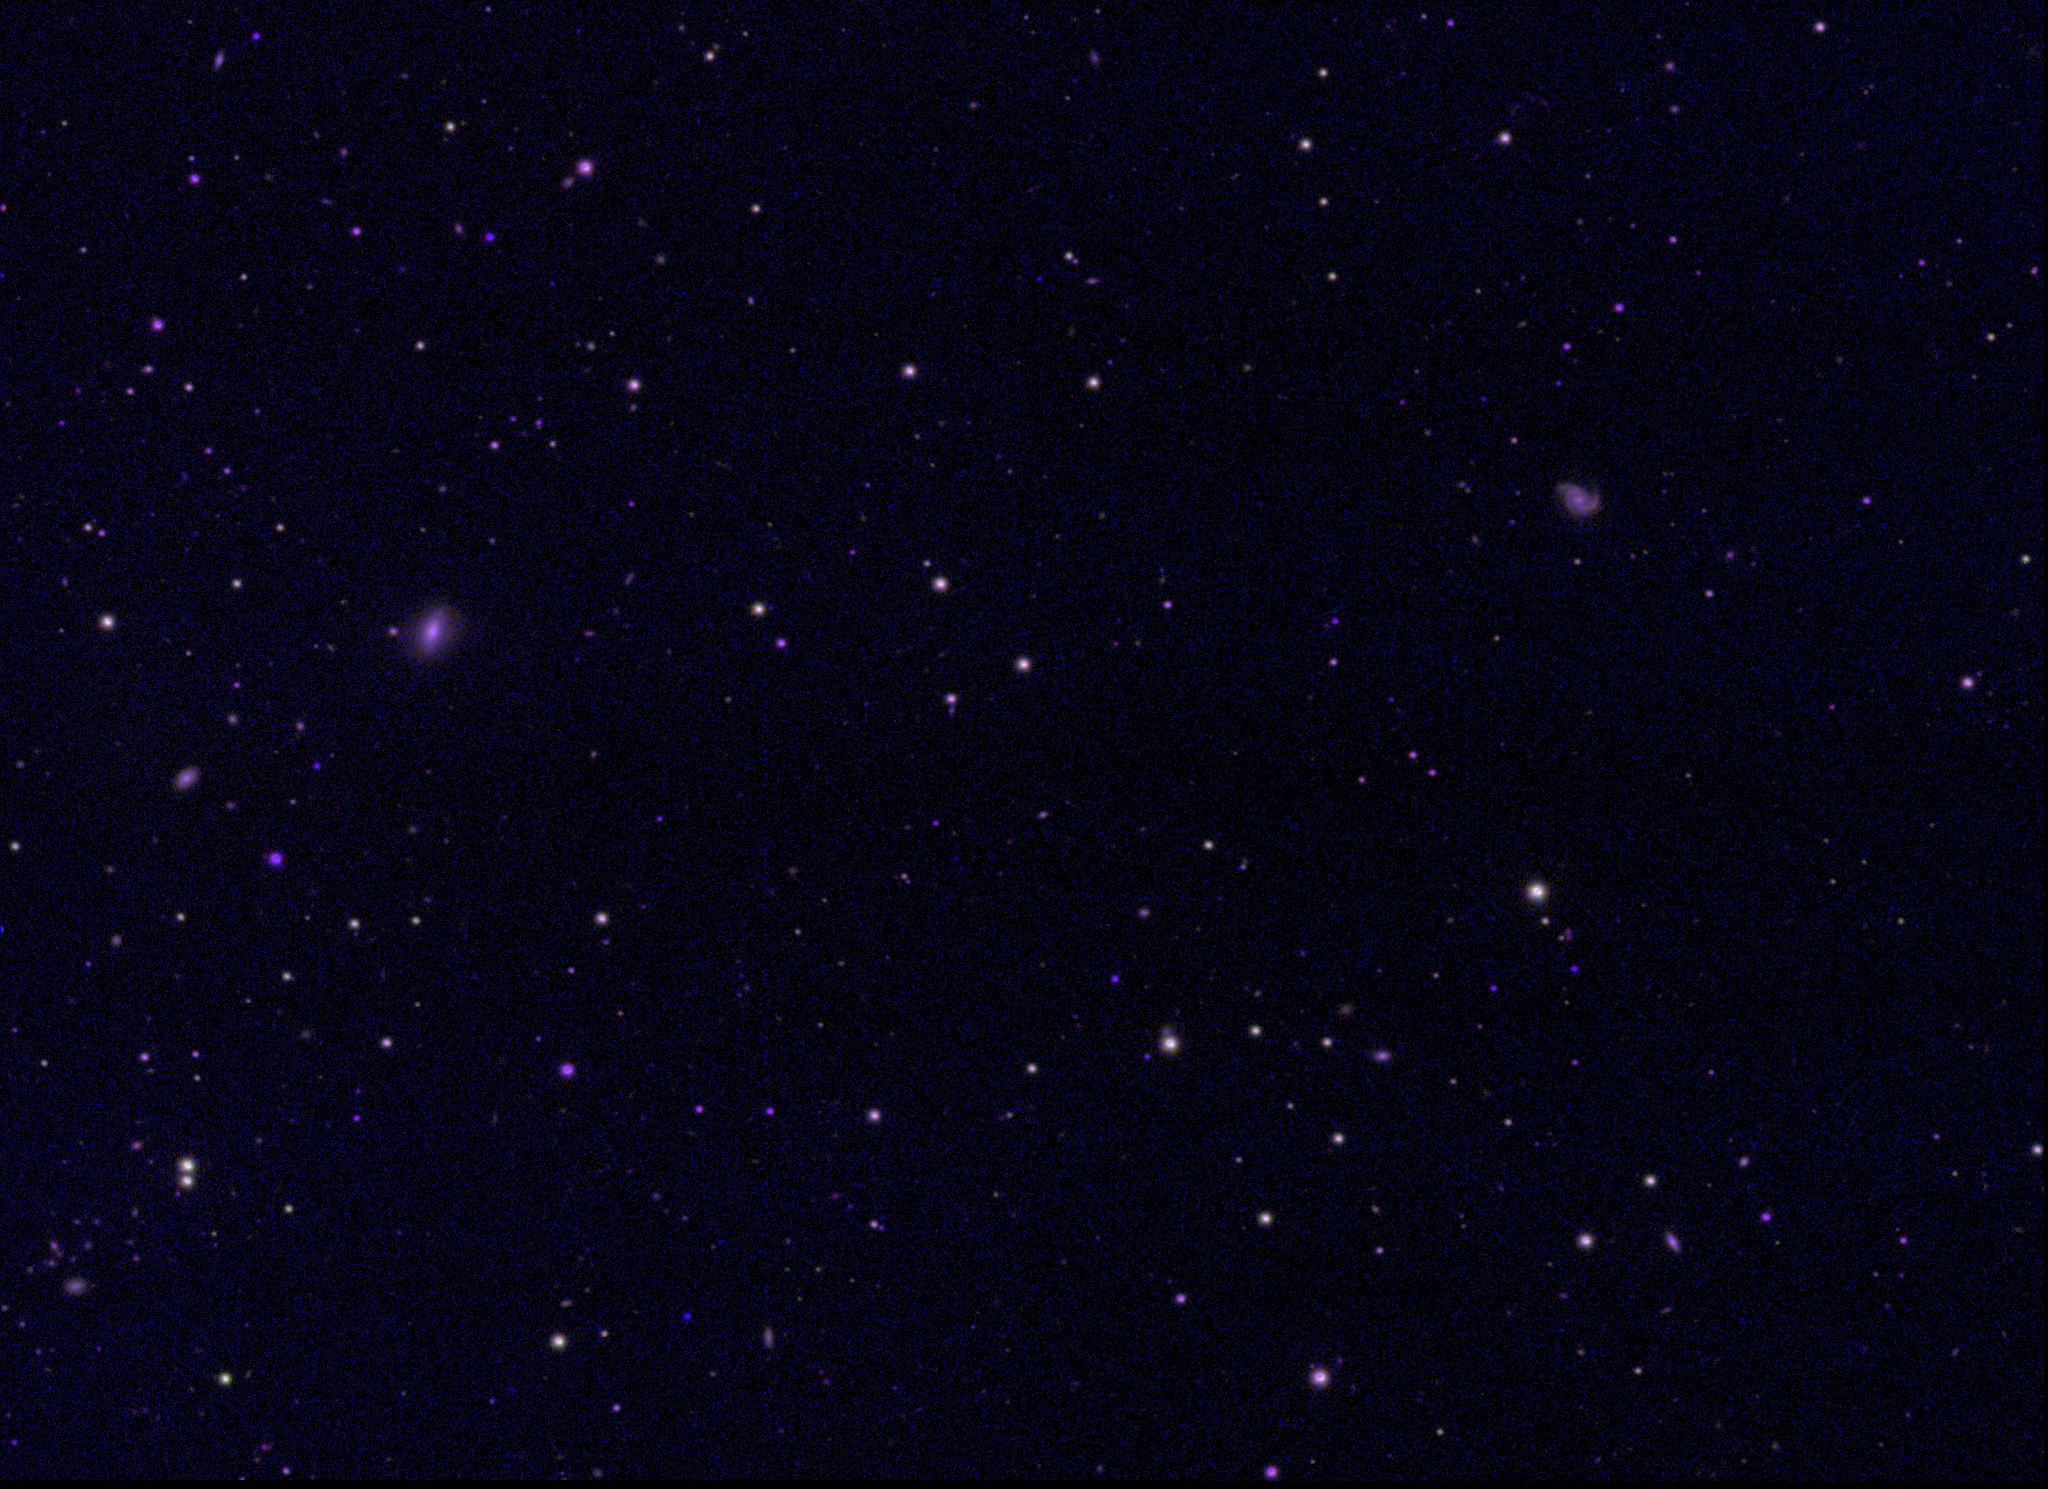L: (681, 1308, 695, 1322)
